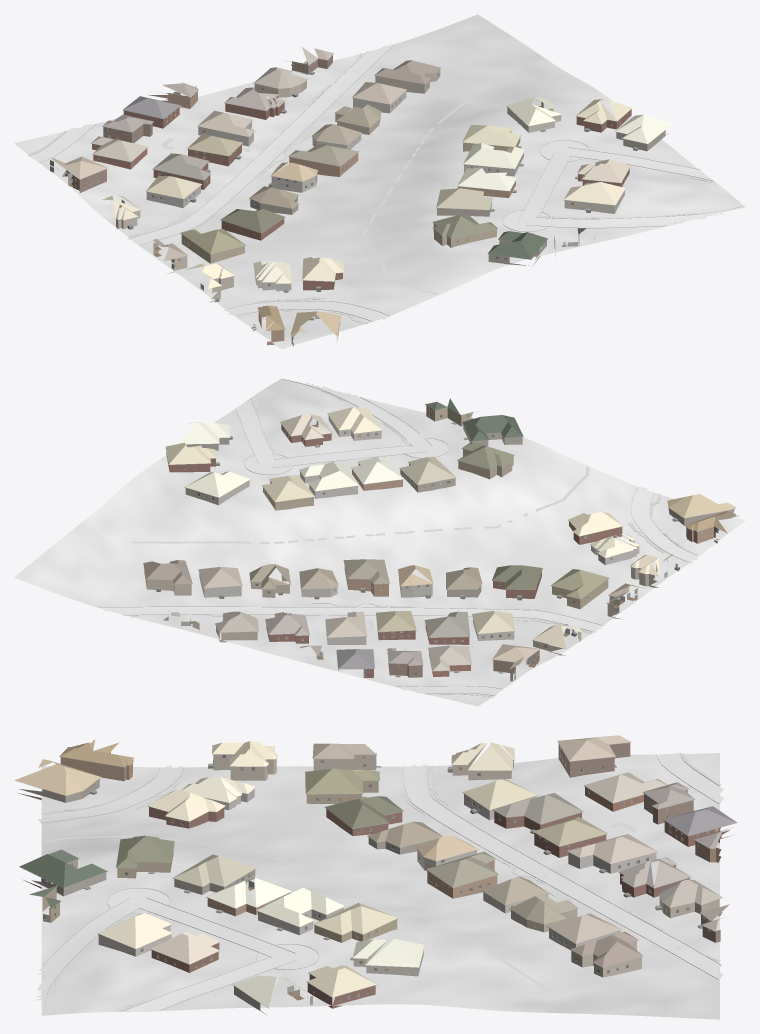
3 renders of one model, top to bottom at view 1: azimuth 30°, elevation 25°; view 2: azimuth 150°, elevation 25°; view 3: azimuth 270°, elevation 25°, orthographic. The views are drawn at different scales.
Visible parts, largest first — view 1: ground, roof, concrete, wall, detail, wall_stucco, curb, wall_stone, walk; view 2: ground, roof, concrete, wall, detail, curb, walk, wall_stone, wall_stucco, room; view 3: ground, roof, wall, concrete, detail, wall_stucco, wall_stone, curb, walk, glass.
Part boxes in pixels (x1,y1,x2,y2): ground: (14,14,745,349); roof: (52,47,672,337); concrete: (29,44,723,321); wall: (73,55,668,346); detail: (57,54,664,337); wall_stucco: (116,70,624,273); curb: (28,44,744,323); wall_stone: (146,91,523,291); walk: (28,53,713,323); ground: (14,378,745,706); roof: (143,398,739,670); concrete: (99,382,697,695); wall: (166,406,735,681); detail: (145,404,736,677); curb: (98,379,696,697); walk: (130,390,682,696); wall_stone: (199,472,639,644); wall_stucco: (144,416,620,655); room: (163,421,703,680); ground: (41,753,719,1019); roof: (14,735,737,1008); wall: (18,743,732,1014); concrete: (35,753,723,1011); detail: (23,741,725,1001); wall_stucco: (98,752,641,977); wall_stone: (207,789,656,949); curb: (41,753,721,1015); walk: (41,753,721,1011); glass: (43,752,710,1001).
Size of the model in its own units: 266 by 29.96 by 270.
